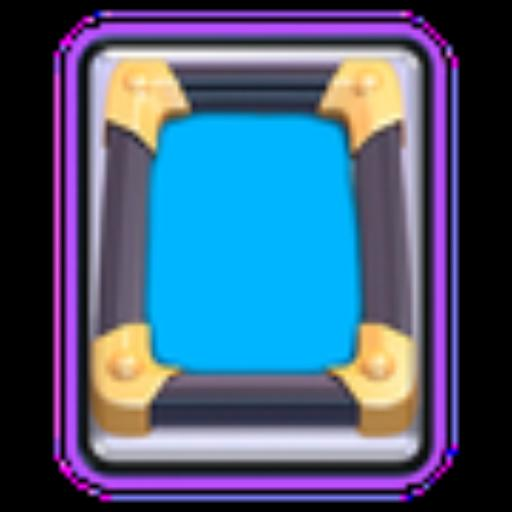mirror: (49, 6, 453, 494)
